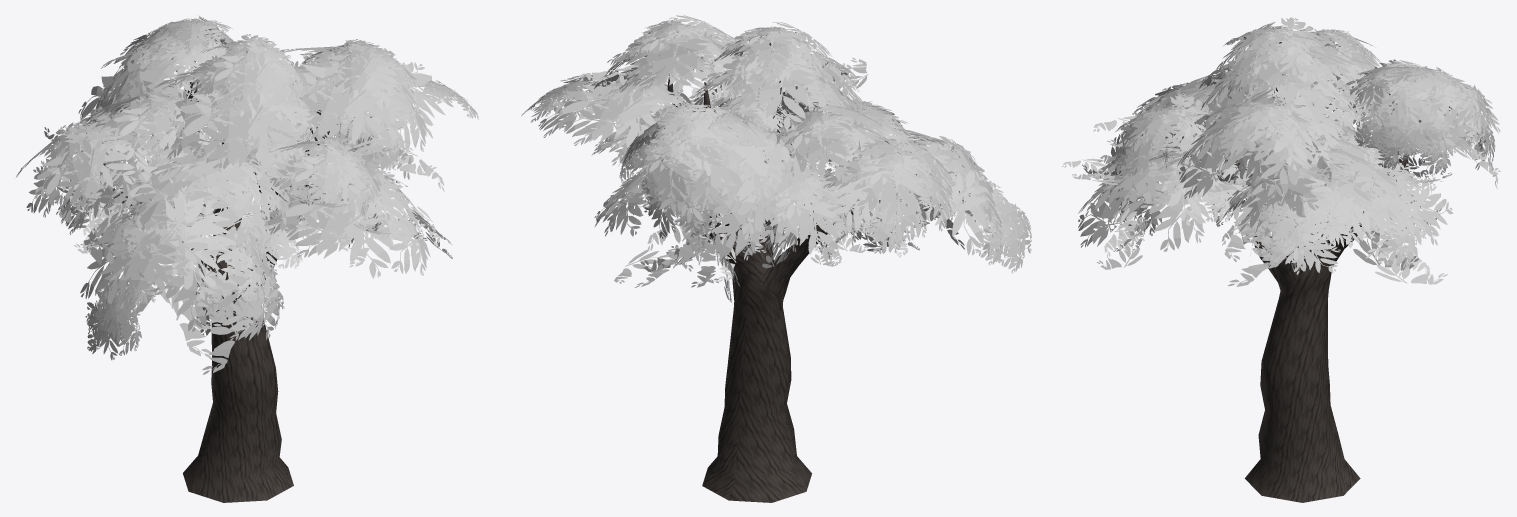
The model's file is tree_01.fbx.
The picture shows the model from 3 angles, left to right: view 1: azimuth 30°, elevation 25°; view 2: azimuth 150°, elevation 25°; view 3: azimuth 270°, elevation 25°; orthographic projection.
Parts seen in each view (by area): view 1: Tree_01_LOD0; view 2: Tree_01_LOD0; view 3: Tree_01_LOD0.
Boxes of the visible parts, left/top/right/bottom form: Tree_01_LOD0: left=16, top=14, right=478, bottom=502; Tree_01_LOD0: left=521, top=15, right=1031, bottom=502; Tree_01_LOD0: left=1062, top=17, right=1500, bottom=502.
Size of what is drawn, in the model's own units: 26.37 by 25.3 by 22.49.
